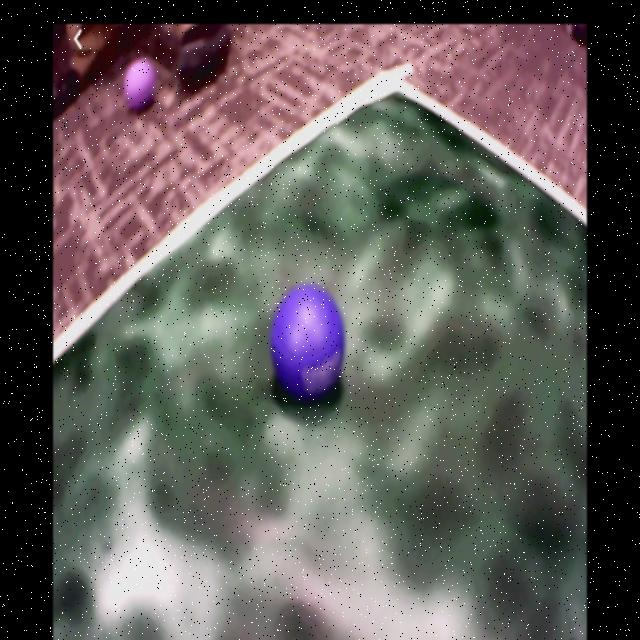ball: (271, 283, 346, 397), (125, 60, 155, 106)
